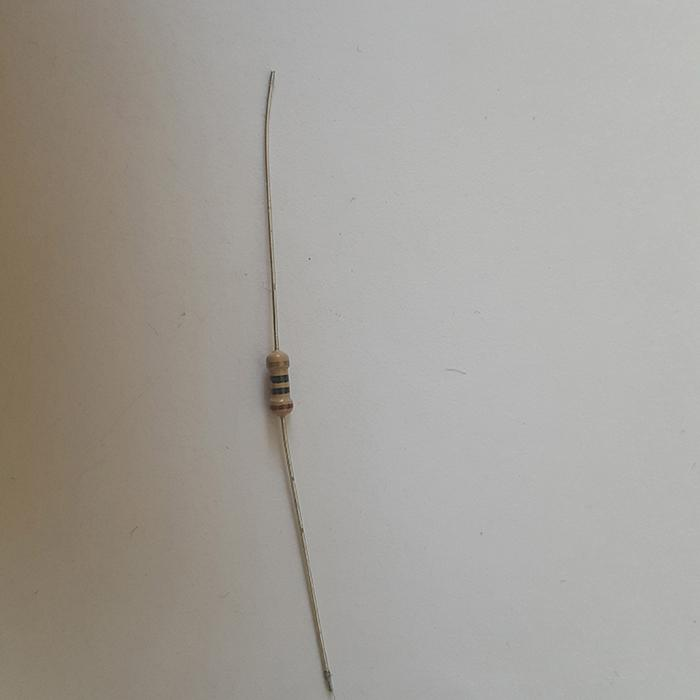resistor: (265, 349, 294, 415)
